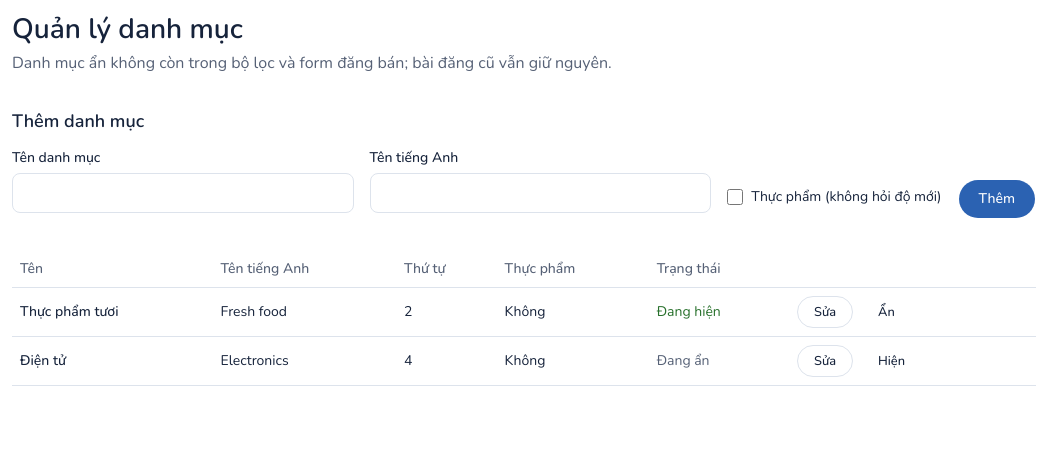
Test: CategoryAdmin › validates the edit row and can cancel
Expected: the table is shown, [12, 251, 1036, 386]
Click the button with aria-label "Sửa Điện tử" at point(825, 361), box [797, 345, 853, 377]
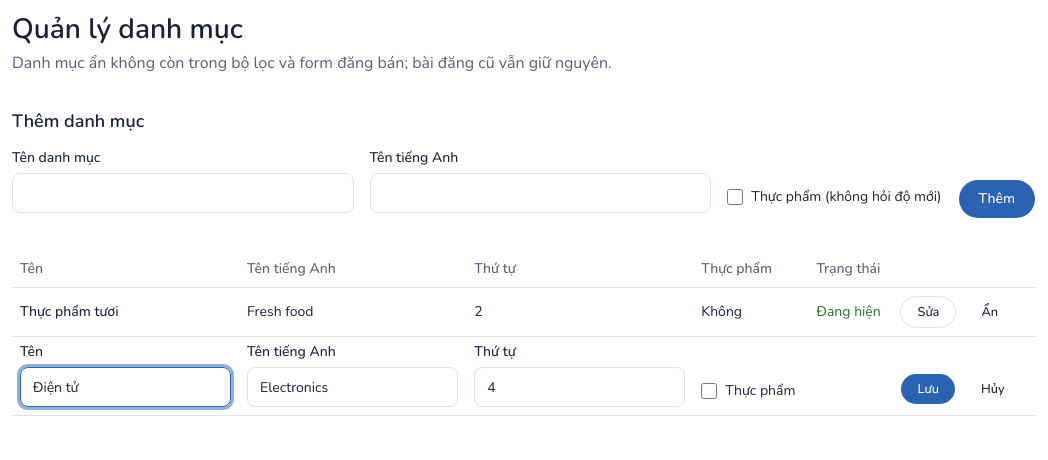
Replace the text in the number field labelled "Thứ tự" with "-1" at point(580, 387), box [474, 367, 685, 407]
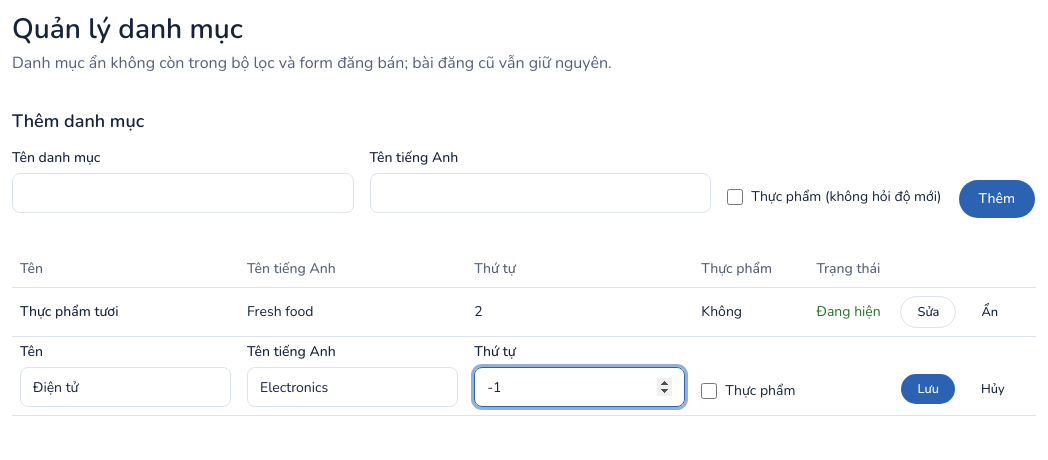
Click the button "Lưu" at point(928, 389), box [900, 373, 956, 405]
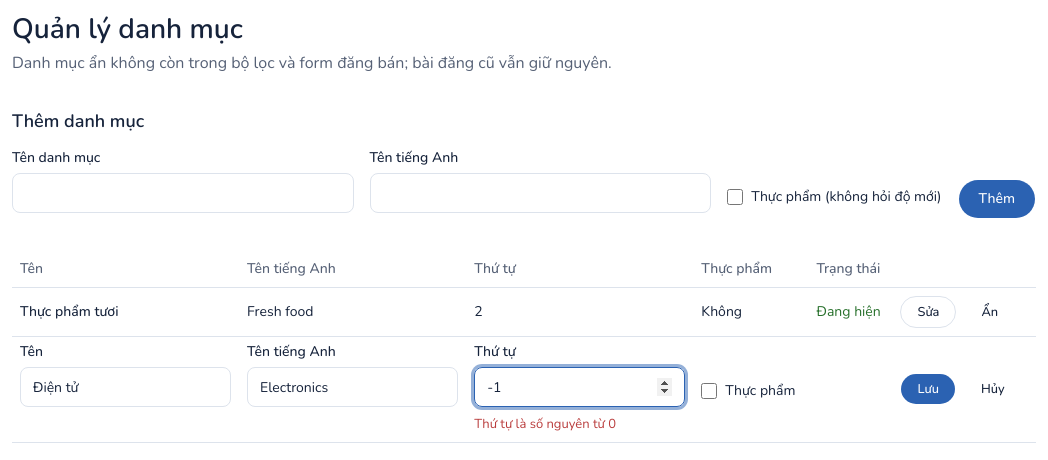
Expected: the text "Thứ tự là số nguyên từ 0" is shown, [474, 415, 616, 433]
Click the button "Hủy" at point(993, 389), box [964, 373, 1022, 405]
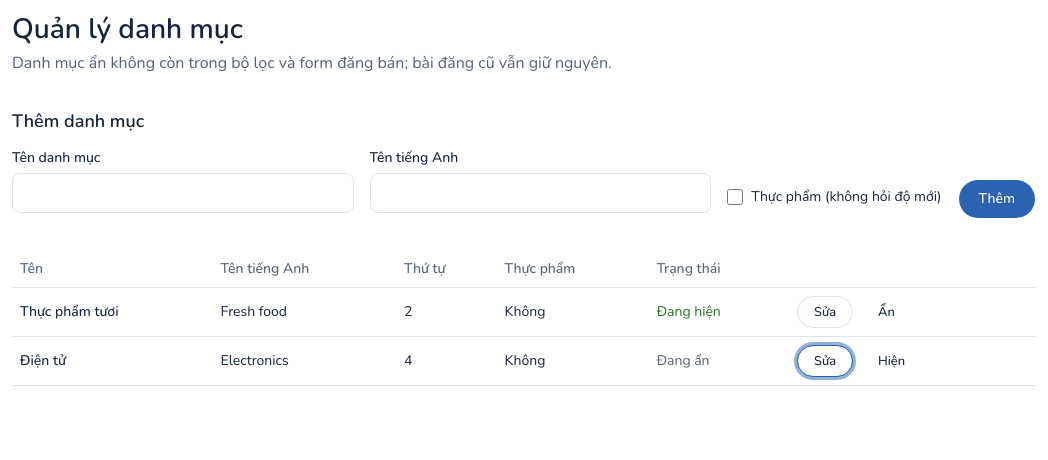
Expected: the text "Electronics" is shown, [213, 336, 396, 386]
